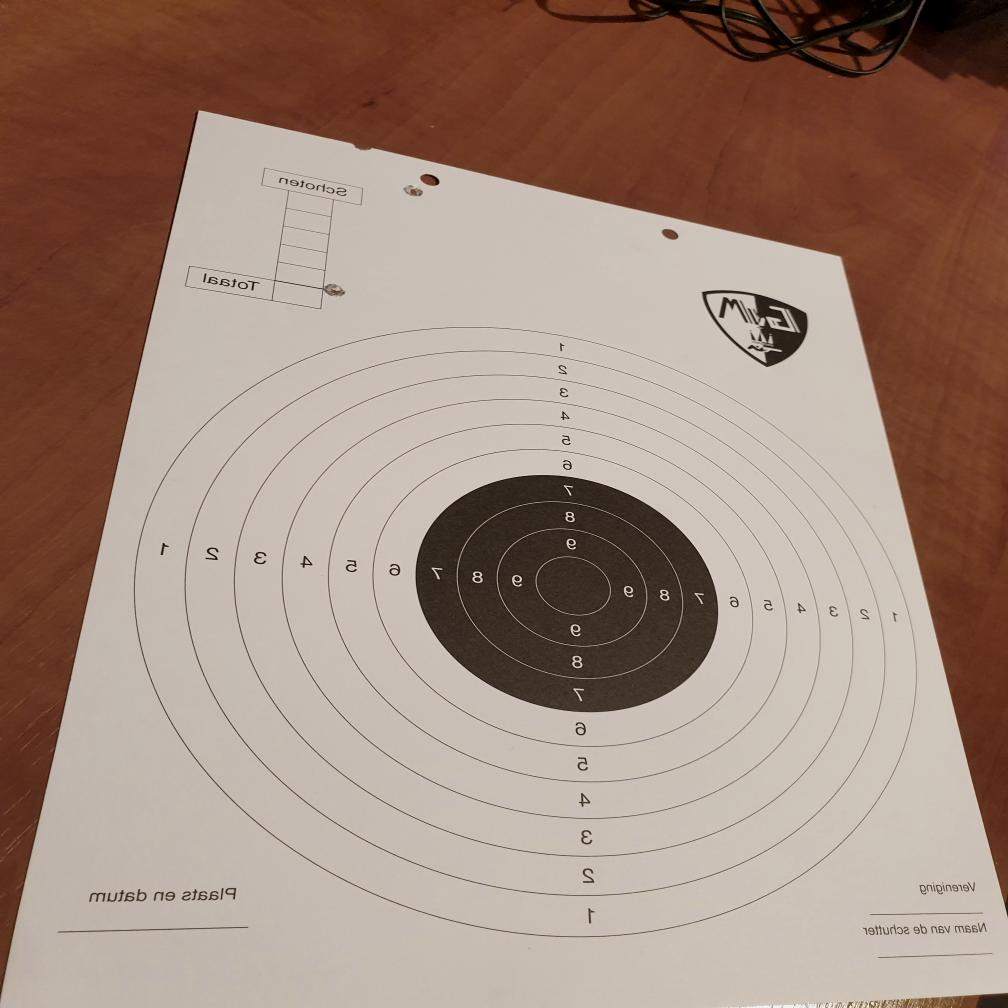0: (323, 283, 347, 298), (402, 184, 424, 197)
Target: (131, 325, 919, 937)
black_contour: (415, 473, 718, 712)
